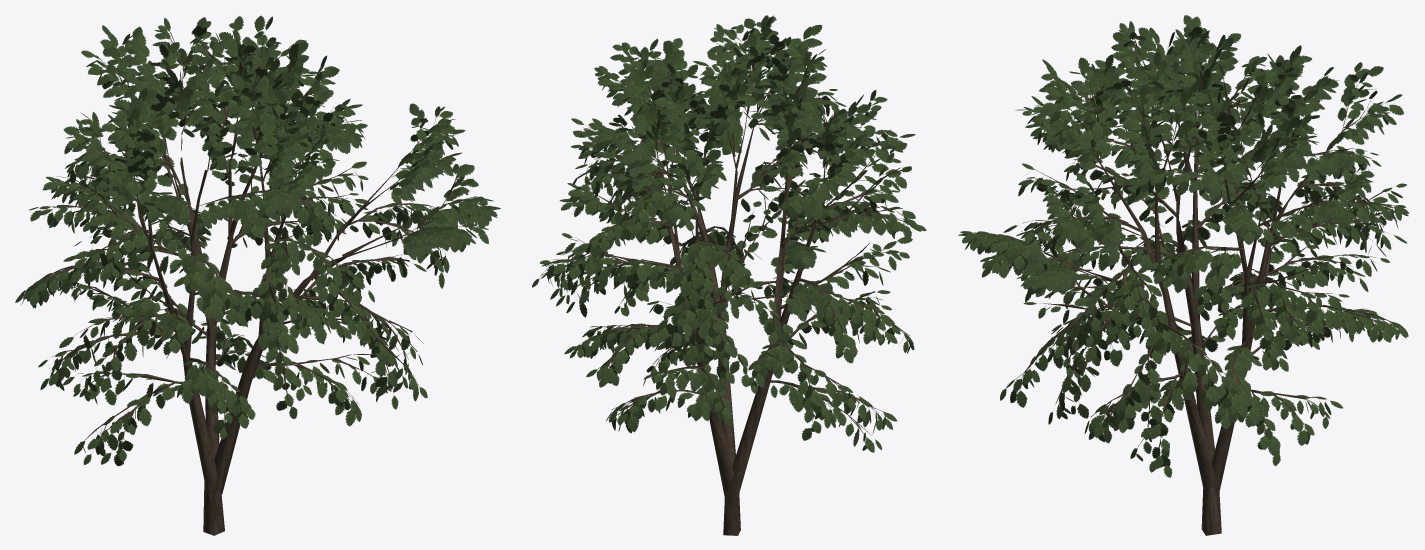
The model's file is tree1.glb.
The picture shows the model from 3 angles, left to right: view 1: azimuth 30°, elevation 25°; view 2: azimuth 150°, elevation 25°; view 3: azimuth 270°, elevation 25°; orthographic projection. The views are drawn at different scales.
Parts seen in each view (by area): view 1: leaves, tree; view 2: leaves, tree; view 3: leaves, tree.
Boxes of the visible parts, x1,y1,x2,y2 form: leaves: (15,15,500,465); tree: (27,32,476,535); leaves: (532,15,926,452); tree: (541,24,910,535); leaves: (958,15,1409,477); tree: (974,39,1398,535).
Size of the model in its own units: 13.64 by 16.82 by 13.86.
1 material, 1 textured.
